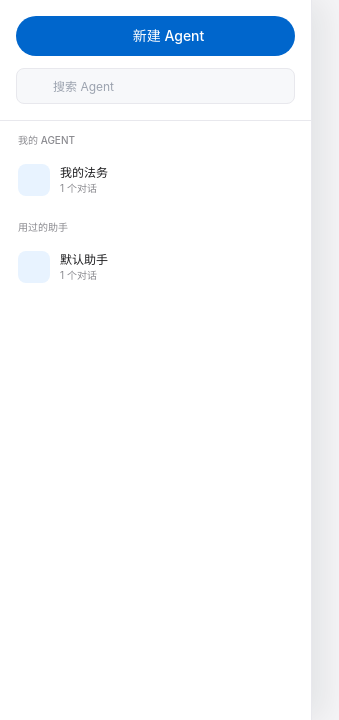
Test: AgentRail 两个面板互切 › 对话面板只列这个 Agent 名下的对话
The width and height of the screenshot is (339, 720).
What coordinates should you click on to do the following:
click the text "我的法务"
I would click on:
 (84, 172)
Its box is [60, 164, 108, 180].
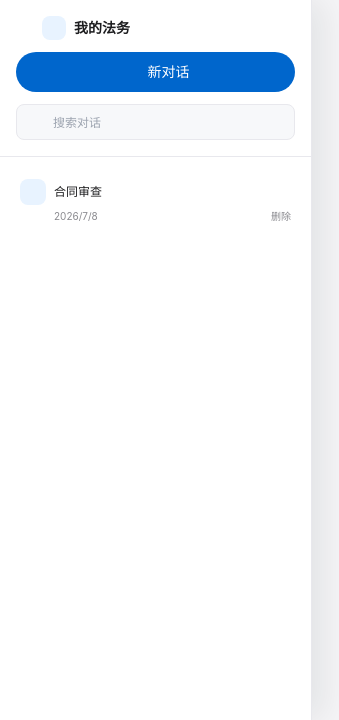
Expected: the text "合同审查" is shown, [54, 184, 102, 199]
